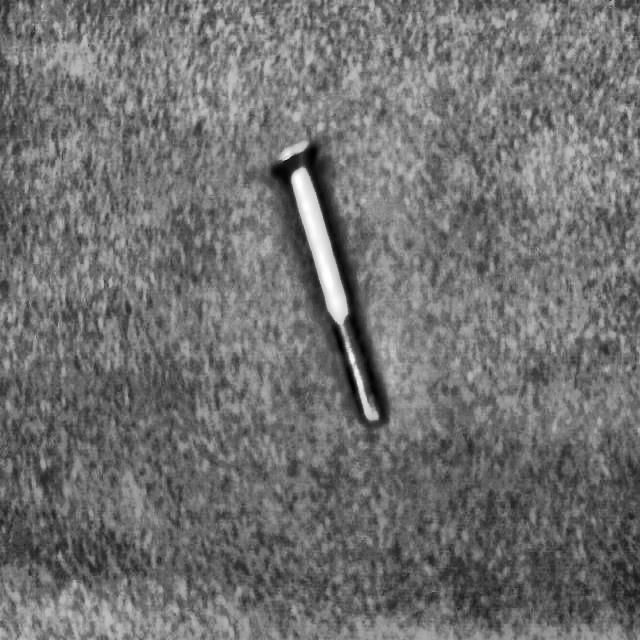Flat head socket screw: (268, 133, 388, 428)
